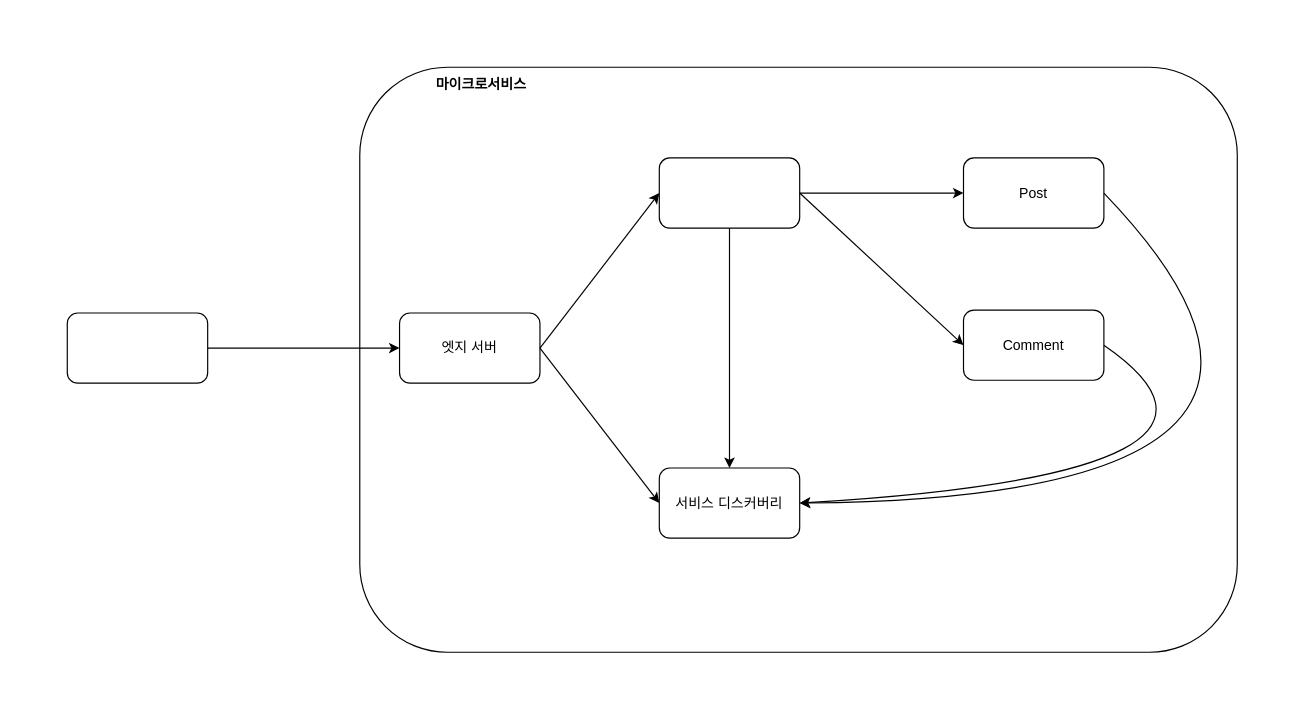
Some shapes in this 1303 by 718 pixel diagram are drawn without their labels. The shapes that lost their labels are listed below. From the top down, each one's centre as x and y in pixels, then its label:
point 729,192: Composite
point 137,347: 클라이언트
